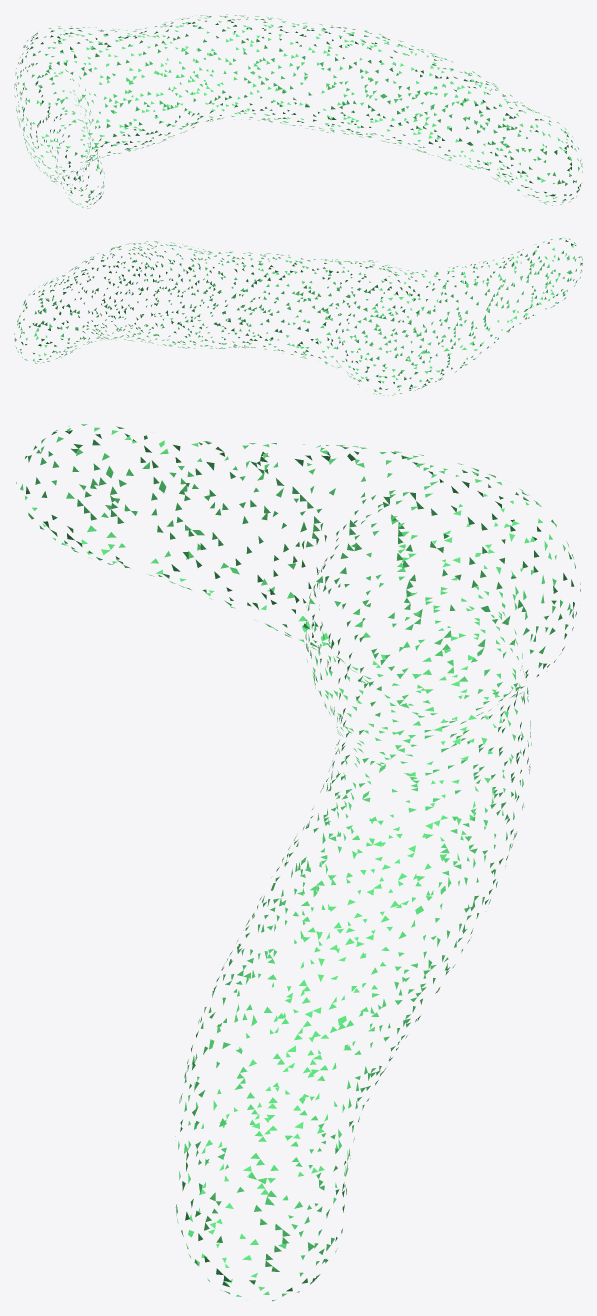
File: morph_020.glb
The picture shows the model from 3 angles, top to bottom: view 1: azimuth 30°, elevation 25°; view 2: azimuth 150°, elevation 25°; view 3: azimuth 270°, elevation 25°; orthographic projection. The views are drawn at different scales.
Bounding box in the file's own units: 99.97 × 41 × 48.24.
